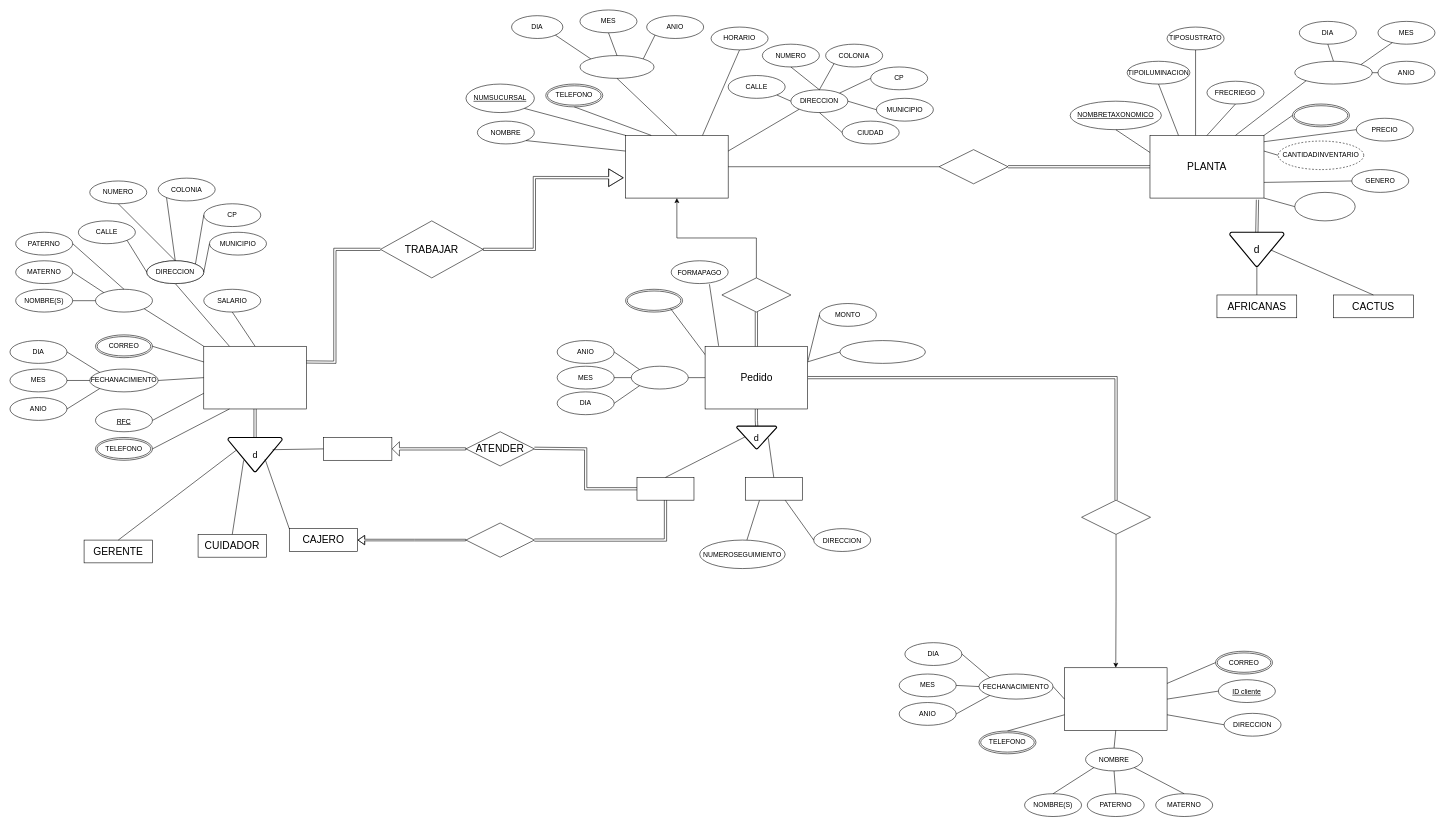
The diagram is 1445 pixels wide and 827 high, and some of its shapes have lost their labels. Here are the shapes that lost their labels. From the top down, the centre of each, then its label:
At [616,66]: "FECHADEAPERTURA".
At [1333,72]: "FECHAGERMINACION".
At [1320,115]: "CUIDADOS".
At [676,166]: "VIVERO".
At [973,166]: "ESTAR".
At [1324,206]: "NOMBRECOMUN".
At [123,300]: "NOMBREC".
At [654,300]: "PRODUCTO".
At [756,294]: "SURTIR".
At [882,351]: "IDPEDIDO".
At [254,377]: "EMPLEADO".
At [659,377]: "FECHA".
At [357,448]: "VENDEDOR".
At [665,488]: "FISICA".
At [773,488]: "LINEA".
At [1116,517]: "HACER".
At [499,539]: "COBRAR".
At [1115,698]: "CLIENTE".
